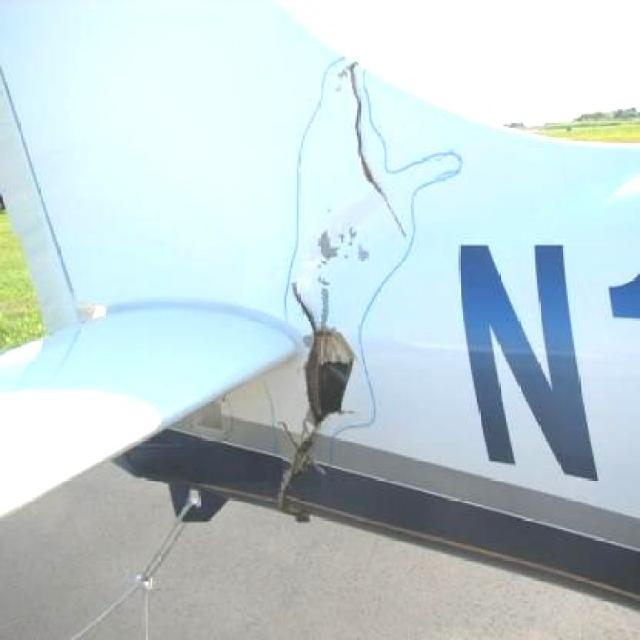crack: (337, 72, 411, 228)
